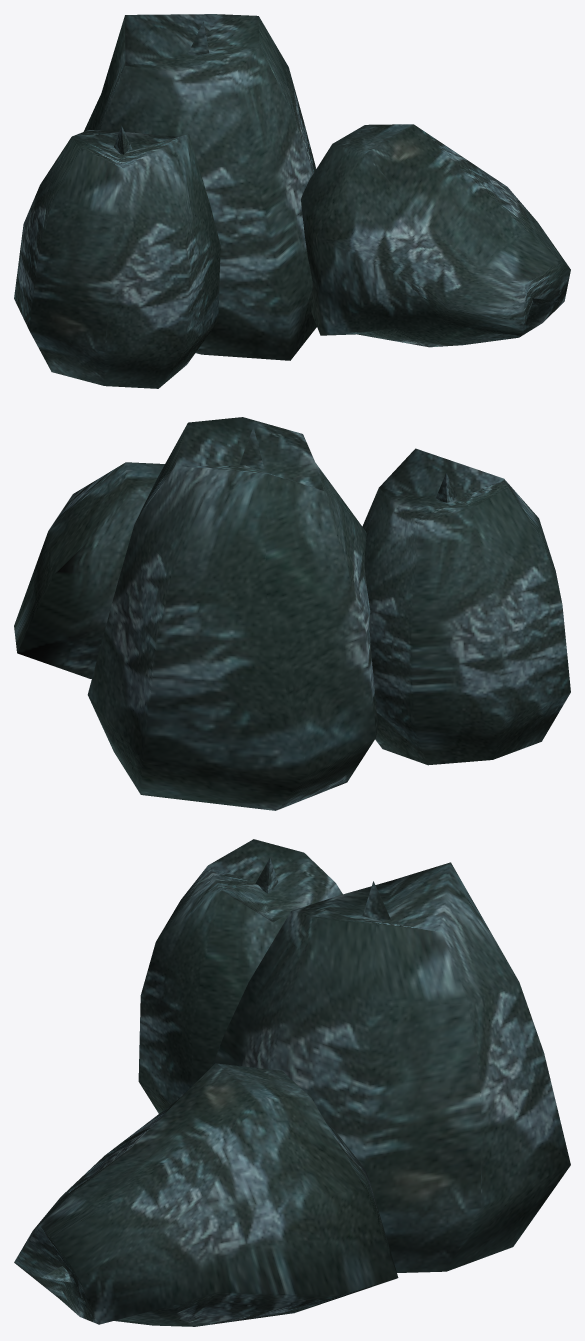
Rendered from GarbageBag.glb.
The picture shows the model from 3 angles, top to bottom: view 1: azimuth 30°, elevation 25°; view 2: azimuth 150°, elevation 25°; view 3: azimuth 270°, elevation 25°; orthographic projection. The views are drawn at different scales.
Visible parts, largest first — view 1: Garbage_bag; view 2: Garbage_bag; view 3: Garbage_bag.
Boxes of the visible parts, x1,y1,x2,y2 form: Garbage_bag: [14, 14, 570, 388]; Garbage_bag: [14, 417, 570, 810]; Garbage_bag: [14, 839, 570, 1326].
Bounding box in the file's own units: 1.88 × 1.13 × 1.63.
1 material, 1 textured.
